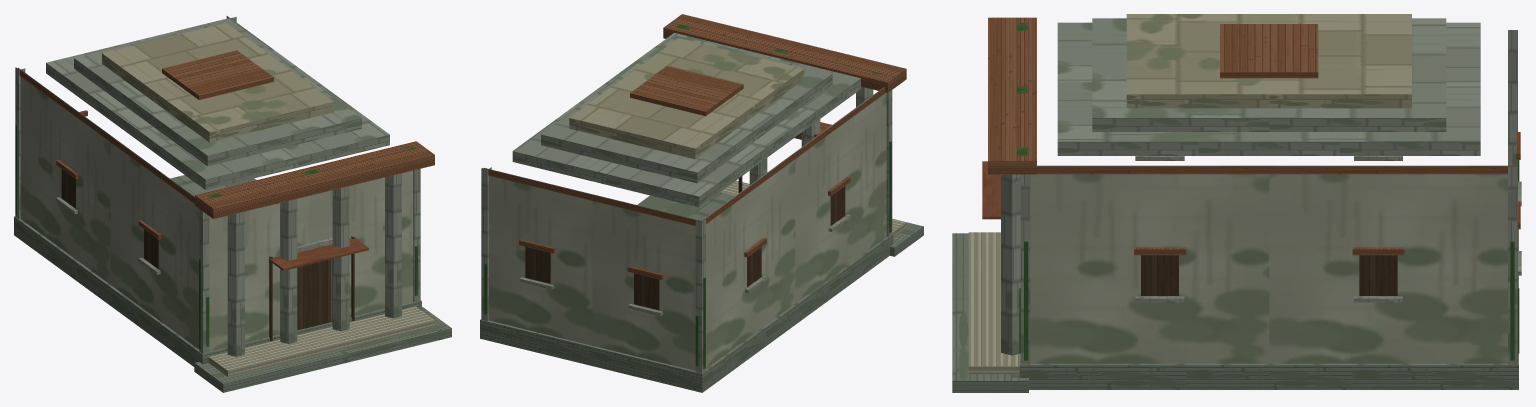
The model's file is ae_jungle_stone_large_hall_lod0.glb.
3 views of the same model, side by side, from view 1: azimuth 30°, elevation 25°; view 2: azimuth 150°, elevation 25°; view 3: azimuth 270°, elevation 25° (orthographic). The views are drawn at different scales.
Visible parts, largest first — view 1: ae_jungle_stone_large_hall_lod0; view 2: ae_jungle_stone_large_hall_lod0; view 3: ae_jungle_stone_large_hall_lod0.
Boxes of the visible parts, box(x1,y1,x2,y2) form: ae_jungle_stone_large_hall_lod0: box(14, 16, 451, 392); ae_jungle_stone_large_hall_lod0: box(480, 14, 923, 392); ae_jungle_stone_large_hall_lod0: box(952, 14, 1521, 392).
Bounding box in the file's own units: 6.4 × 5.47 × 10.42.
Materials: 1 (1 with a texture image).
